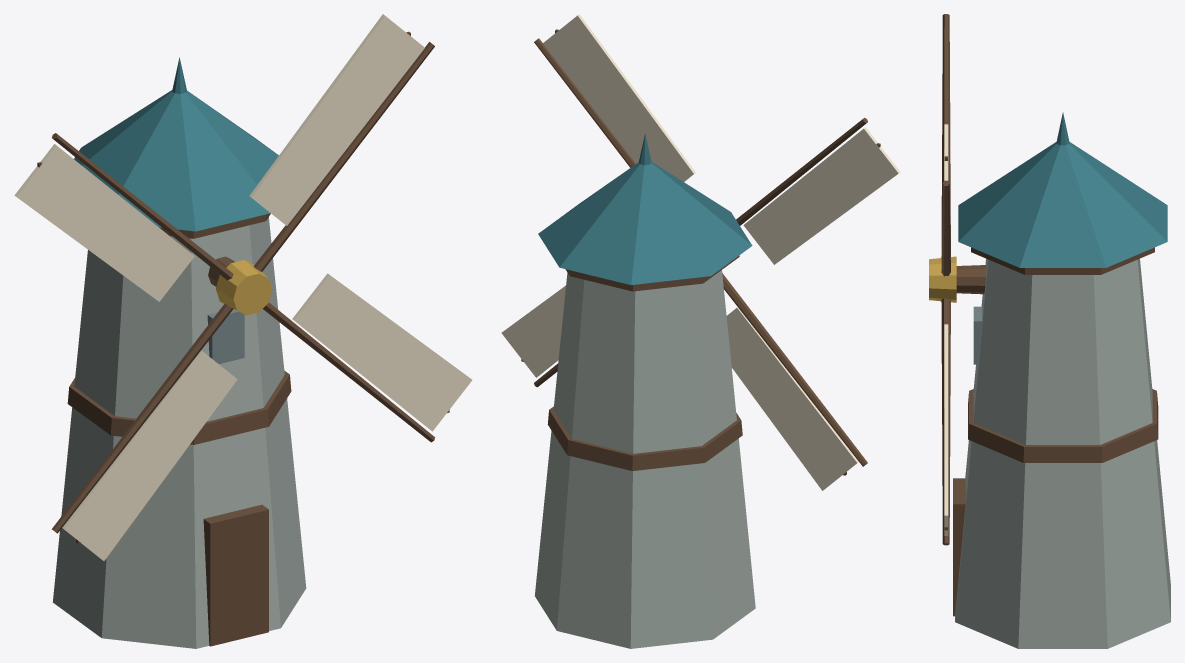
The model's file is windmill.glb.
3 renders of one model, left to right at view 1: azimuth 30°, elevation 25°; view 2: azimuth 150°, elevation 25°; view 3: azimuth 270°, elevation 25°, orthographic. The views are drawn at different scales.
Parts seen in each view (by area): view 1: Tower, Blades; view 2: Tower, Blades; view 3: Tower, Blades.
Boxes of the visible parts, x1=… form: Tower: x1=52, y1=57, x2=306, y2=648; Blades: x1=14, y1=14, x2=472, y2=560; Tower: x1=535, y1=133, x2=755, y2=648; Blades: x1=501, y1=14, x2=900, y2=490; Tower: x1=953, y1=112, x2=1170, y2=648; Blades: x1=929, y1=14, x2=956, y2=545.
Size of the model in its own units: 7 by 8.7 by 3.52.
